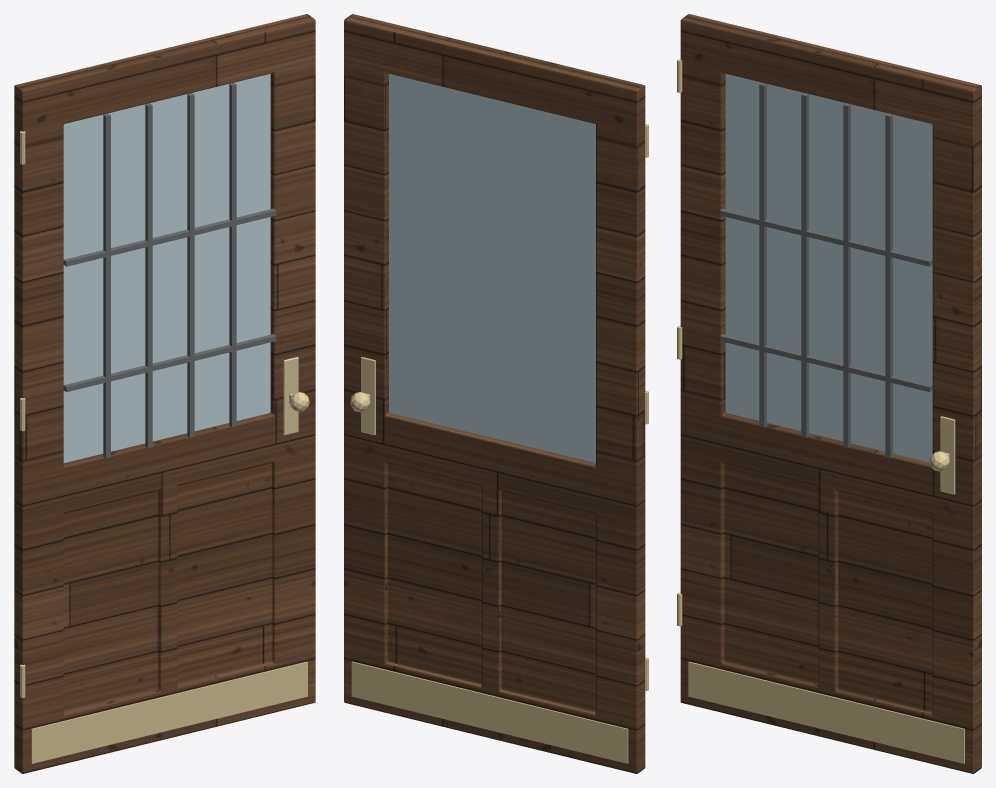
The model's file is door_entry.glb.
3 views of the same model, side by side, from view 1: azimuth 30°, elevation 25°; view 2: azimuth 150°, elevation 25°; view 3: azimuth 330°, elevation 25° (orthographic).
Parts seen in each view (by area): view 1: door_entry_dkwood, door_entry_glass, door_entry_iron, door_entry_brass; view 2: door_entry_dkwood, door_entry_glass, door_entry_brass; view 3: door_entry_dkwood, door_entry_glass, door_entry_iron, door_entry_brass.
Part boxes in pixels (x1=…): door_entry_dkwood: x1=14, y1=14, x2=315, y2=773; door_entry_glass: x1=63, y1=73, x2=270, y2=462; door_entry_iron: x1=63, y1=82, x2=276, y2=458; door_entry_brass: x1=20, y1=131, x2=309, y2=763; door_entry_dkwood: x1=344, y1=14, x2=645, y2=773; door_entry_glass: x1=389, y1=73, x2=595, y2=463; door_entry_brass: x1=350, y1=124, x2=648, y2=763; door_entry_dkwood: x1=680, y1=14, x2=981, y2=773; door_entry_glass: x1=725, y1=74, x2=932, y2=462; door_entry_iron: x1=720, y1=82, x2=932, y2=458; door_entry_brass: x1=677, y1=59, x2=964, y2=763.
Bounding box in the file's own units: 0.988 × 2.18 × 0.21.
Materials: 4 (1 with a texture image).
